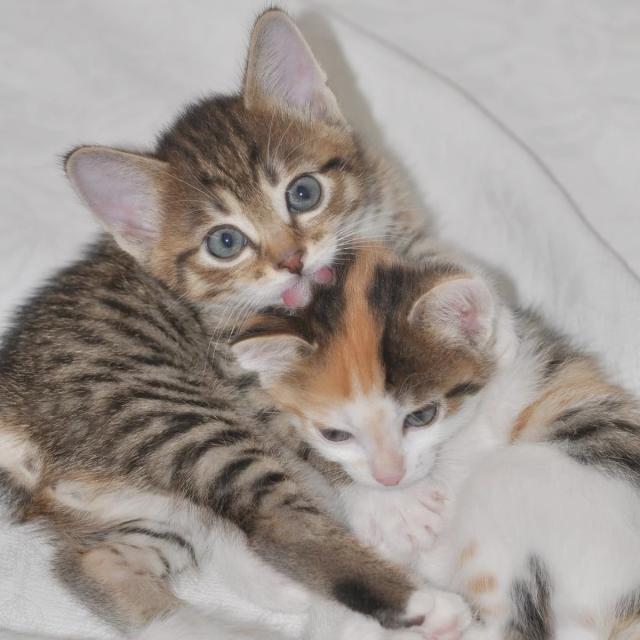da khoe manh: (520, 394, 640, 640), (68, 318, 206, 485)
